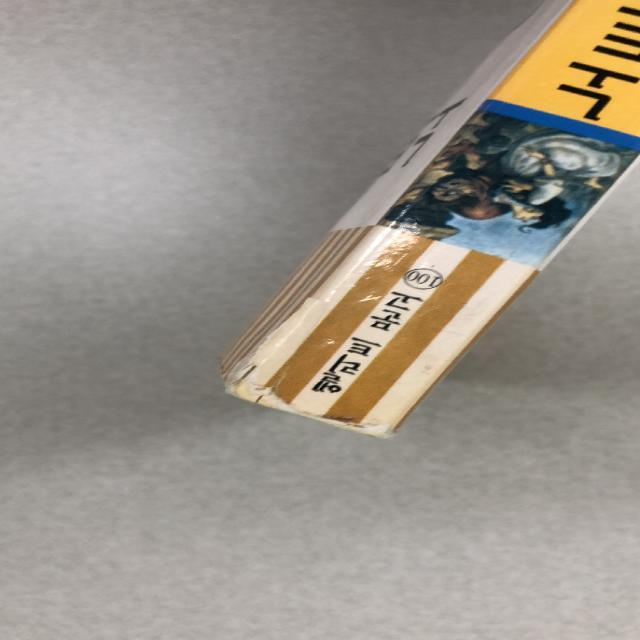Ripped: (218, 290, 324, 413), (306, 413, 408, 443)
